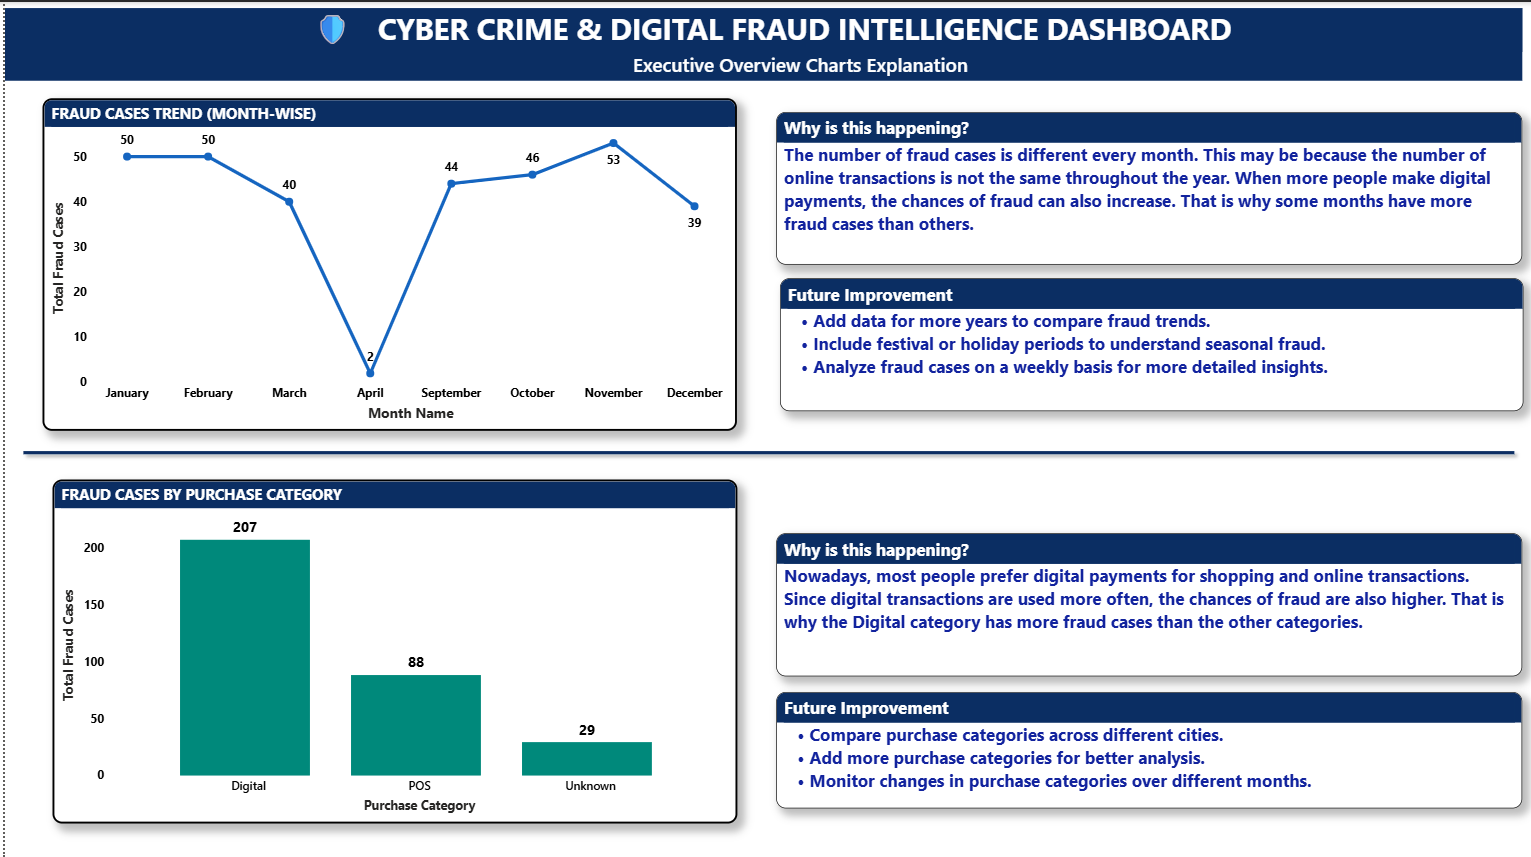

The dashboard page shown, as its layout file describes it:
{"tool":"powerbi","page":{"name":"Charts Explanation 1","canvas":[1920,1080],"ordinal":3},"visuals":[{"type":"shape","title":"   🛡️    CYBER CRIME & DIGITAL FRAUD INTELLIGENCE DASHBOARD","box":[0,7.3,1909.1,90.9],"z":0},{"type":"lineChart","title":"FRAUD CASES TREND (MONTH-WISE)","fields":{"Category":["DateTable.Month Name"],"Y":["Fact_Fraud.Total Fraud Cases"]},"box":[47.1,120.3,873.8,418.6],"z":1000},{"type":"clusteredColumnChart","title":"FRAUD CASES BY PURCHASE CATEGORY","fields":{"Category":["Fact_Fraud.Purchase Category"],"Y":["Fact_Fraud.Total Fraud Cases"]},"box":[59.3,600,861.6,432.6],"z":2000},{"type":"shape","box":[13.8,539.3,1893.6,55.1],"z":3000},{"type":"textbox","title":"Why is this happening?","box":[969.8,137.8,938.4,191.9],"z":4000},{"type":"textbox","title":"Future Improvement","box":[975,347.1,934.9,167.4],"z":5000},{"type":"textbox","title":"Why is this happening?","box":[969.8,668,938.4,179.7],"z":6000},{"type":"textbox","title":"Future Improvement","box":[969.8,868.6,938.4,146.5],"z":7000}]}

Visuals, with their boxes in screenshot pixels (x1, y1, x2, y2), scaled from the page's 1920x1080 canvas onto the 1531x857 screenshot:
"   🛡️    CYBER CRIME & DIGITAL FRAUD INTELLIGENCE DASHBOARD" shape: crop(0, 6, 1522, 78)
"FRAUD CASES TREND (MONTH-WISE)" lineChart: crop(38, 95, 734, 428)
"FRAUD CASES BY PURCHASE CATEGORY" clusteredColumnChart: crop(47, 476, 734, 819)
shape: crop(11, 428, 1521, 472)
"Why is this happening?" textbox: crop(773, 109, 1522, 262)
"Future Improvement" textbox: crop(777, 275, 1523, 408)
"Why is this happening?" textbox: crop(773, 530, 1522, 673)
"Future Improvement" textbox: crop(773, 689, 1522, 806)
